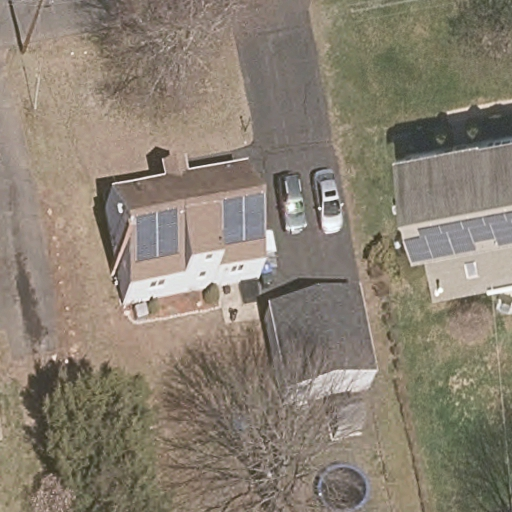DT: (21, 1, 45, 54)
